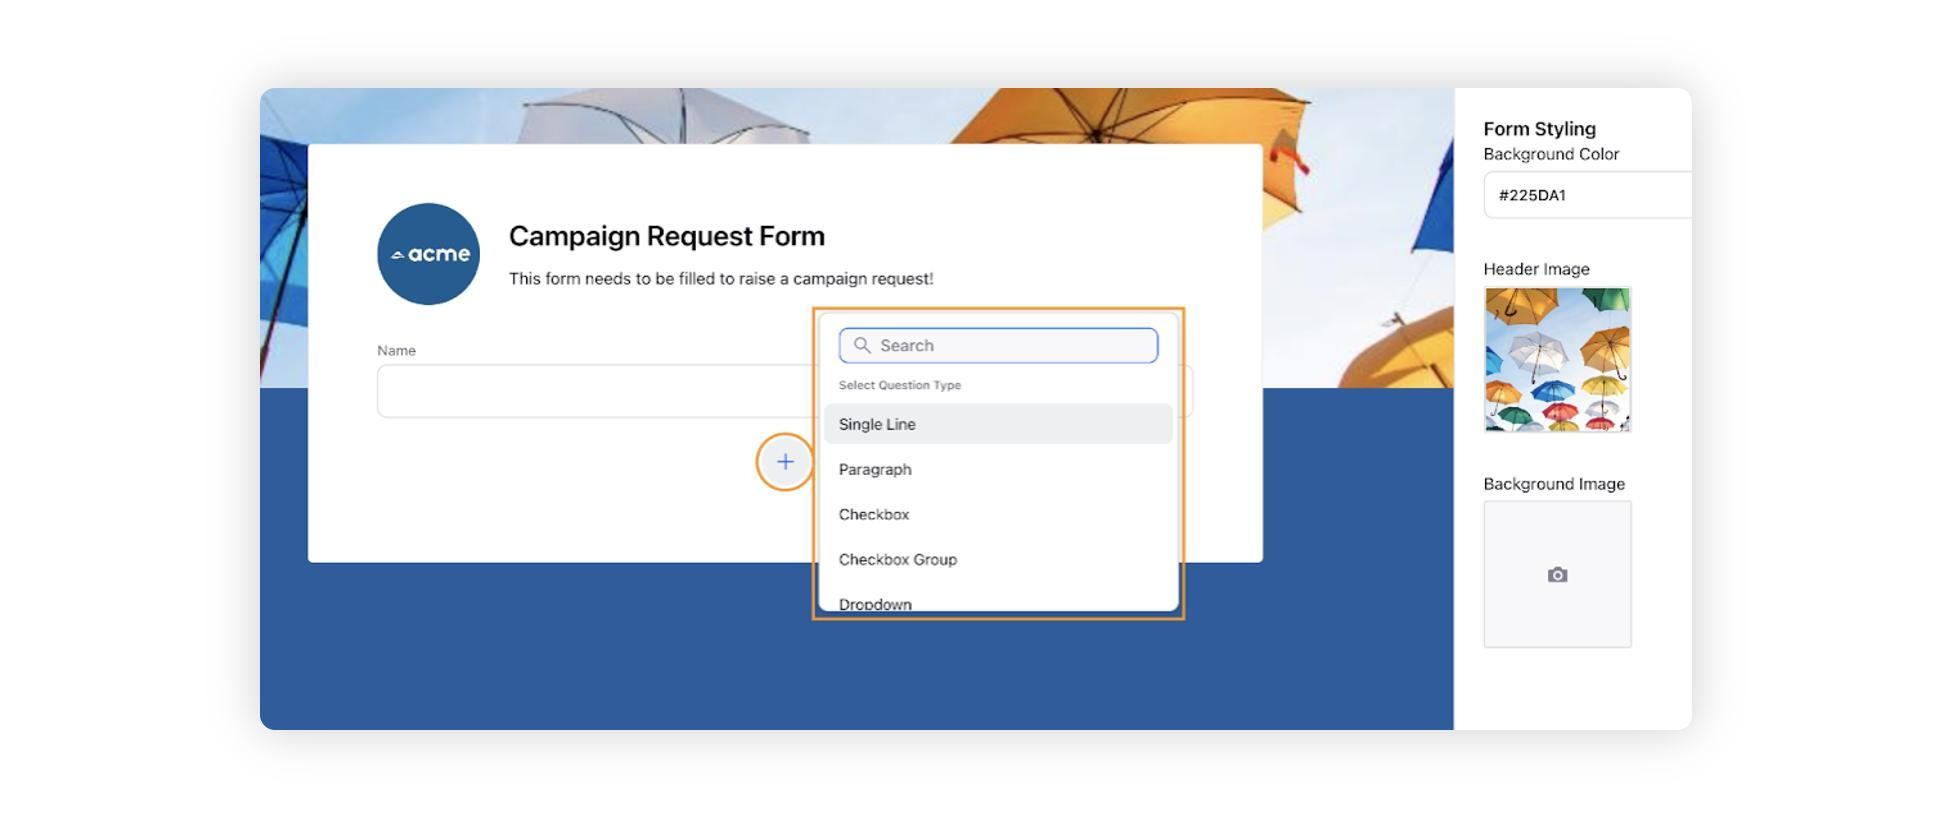icon: (776, 450, 799, 481), (1546, 562, 1570, 587), (854, 335, 871, 357)
input: (372, 362, 812, 425), (841, 329, 1157, 362), (1485, 171, 1696, 221)
label: (507, 220, 827, 254), (505, 269, 939, 291), (1482, 475, 1630, 495), (1482, 117, 1599, 142), (837, 377, 966, 396), (1480, 260, 1597, 280), (1484, 146, 1622, 162), (374, 341, 420, 362)
